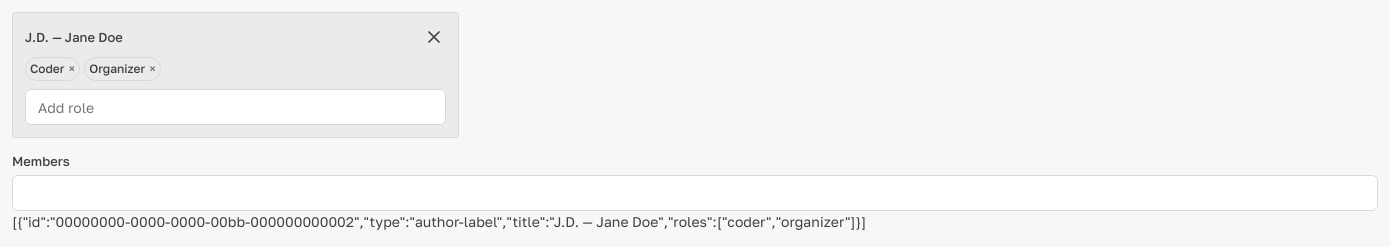
Test case: MemberRoleEditor › takes a role away by its chip and a member away by the remove button of the card
Click the button named "Remove Coder". click: point(72, 69)
box: [68, 63, 75, 75]
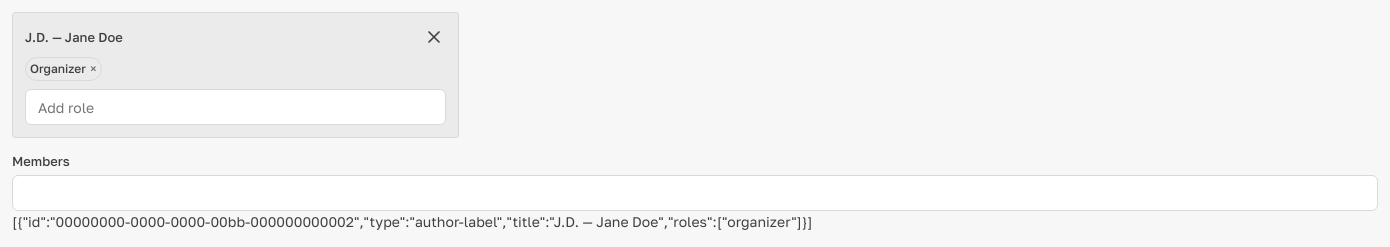
Click the button named "Remove J.D. — Jane Doe". click: point(434, 37)
box: [422, 25, 446, 49]
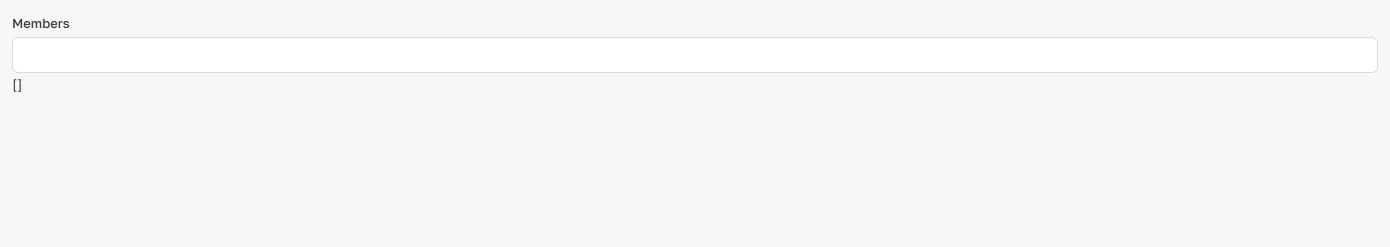
Expected: the text "[]" is shown, [12, 75, 23, 92]
